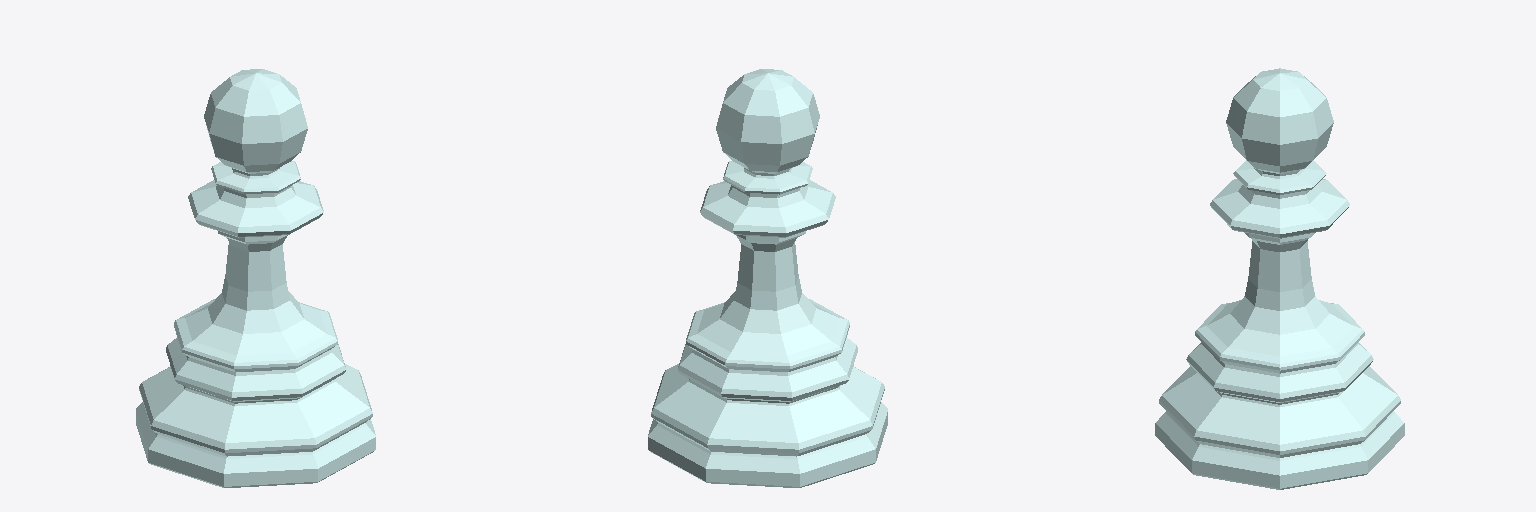
File: Pawn.obj
The picture shows the model from 3 angles: view 1: azimuth 30°, elevation 25°; view 2: azimuth 150°, elevation 25°; view 3: azimuth 270°, elevation 25°; orthographic projection.
Parts seen in each view (by area): view 1: Pawn.001_Cylinder.017; view 2: Pawn.001_Cylinder.017; view 3: Pawn.001_Cylinder.017.
Part boxes in pixels (left/top/right/bottom): Pawn.001_Cylinder.017: left=136, top=69, right=375, bottom=487; Pawn.001_Cylinder.017: left=648, top=69, right=887, bottom=487; Pawn.001_Cylinder.017: left=1155, top=68, right=1404, bottom=489.
Size of the model in its own units: 0.3 by 0.485 by 0.3.